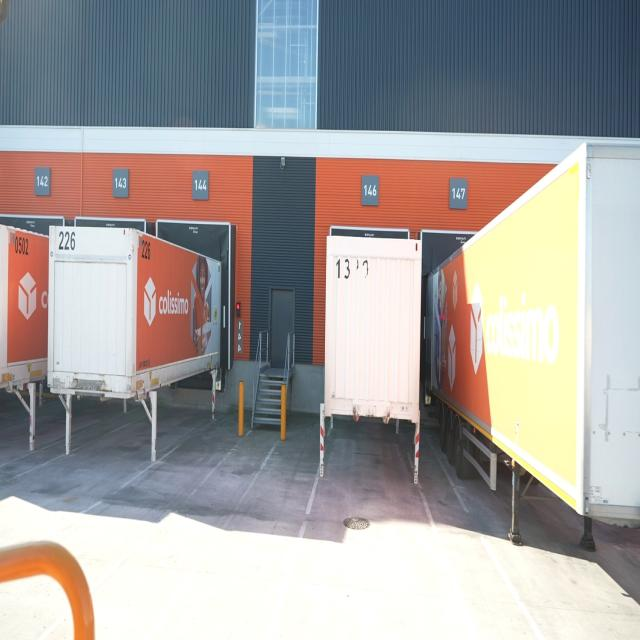Code: (54, 227, 79, 253), (138, 236, 155, 264), (12, 233, 31, 255)
